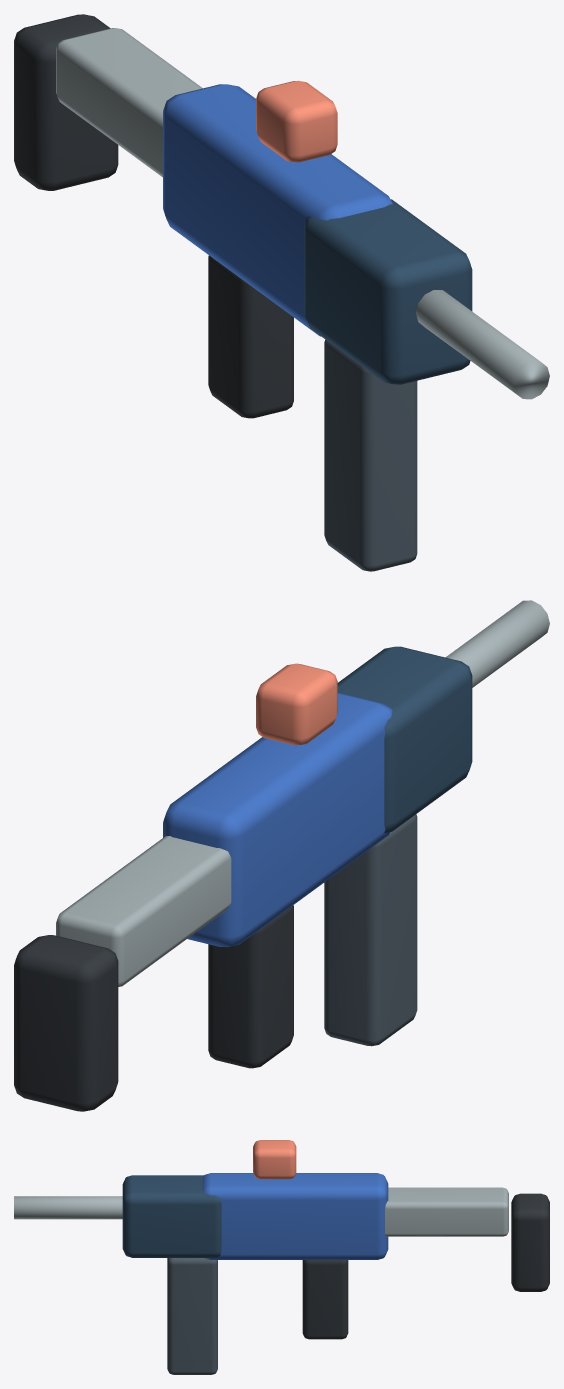
File: HL_SMG_Current.fbx
The picture shows the model from 3 angles, top to bottom: view 1: azimuth 30°, elevation 25°; view 2: azimuth 150°, elevation 25°; view 3: azimuth 270°, elevation 25°; orthographic projection. The views are drawn at different scales.
Visible parts, largest first — view 1: SMG | cobalt receiver, SMG | compact shroud, SMG | front vertical magazine, SMG | extending stock, SMG | stock shoulder pad, SMG | vertical grip, SMG | barrel, SMG | red dot sight; view 2: SMG | cobalt receiver, SMG | front vertical magazine, SMG | stock shoulder pad, SMG | compact shroud, SMG | extending stock, SMG | vertical grip, SMG | red dot sight, SMG | barrel; view 3: SMG | cobalt receiver, SMG | compact shroud, SMG | extending stock, SMG | front vertical magazine, SMG | stock shoulder pad, SMG | vertical grip, SMG | barrel, SMG | red dot sight.
Part boxes in pixels (x1=…): SMG | cobalt receiver: x1=163, y1=84, x2=392, y2=336; SMG | compact shroud: x1=304, y1=199, x2=472, y2=384; SMG | front vertical magazine: x1=324, y1=339, x2=417, y2=571; SMG | extending stock: x1=56, y1=28, x2=202, y2=177; SMG | stock shoulder pad: x1=14, y1=14, x2=118, y2=190; SMG | vertical grip: x1=208, y1=255, x2=293, y2=418; SMG | barrel: x1=416, y1=290, x2=549, y2=399; SMG | red dot sight: x1=256, y1=80, x2=337, y2=162; SMG | cobalt receiver: x1=163, y1=692, x2=392, y2=946; SMG | front vertical magazine: x1=324, y1=814, x2=417, y2=1046; SMG | stock shoulder pad: x1=14, y1=935, x2=118, y2=1111; SMG | compact shroud: x1=337, y1=646, x2=472, y2=832; SMG | extending stock: x1=56, y1=836, x2=231, y2=986; SMG | vertical grip: x1=208, y1=905, x2=293, y2=1068; SMG | red dot sight: x1=256, y1=663, x2=337, y2=745; SMG | barrel: x1=445, y1=600, x2=549, y2=687; SMG | cobalt receiver: x1=202, y1=1173, x2=388, y2=1259; SMG | compact shroud: x1=122, y1=1175, x2=221, y2=1257; SMG | extending stock: x1=385, y1=1187, x2=508, y2=1236; SMG | front vertical magazine: x1=167, y1=1258, x2=217, y2=1374; SMG | stock shoulder pad: x1=511, y1=1193, x2=549, y2=1291; SMG | vertical grip: x1=302, y1=1260, x2=348, y2=1339; SMG | barrel: x1=14, y1=1196, x2=122, y2=1219; SMG | red dot sight: x1=253, y1=1140, x2=296, y2=1179.
Bounding box in the file's own units: 12 × 51.5 × 111.
